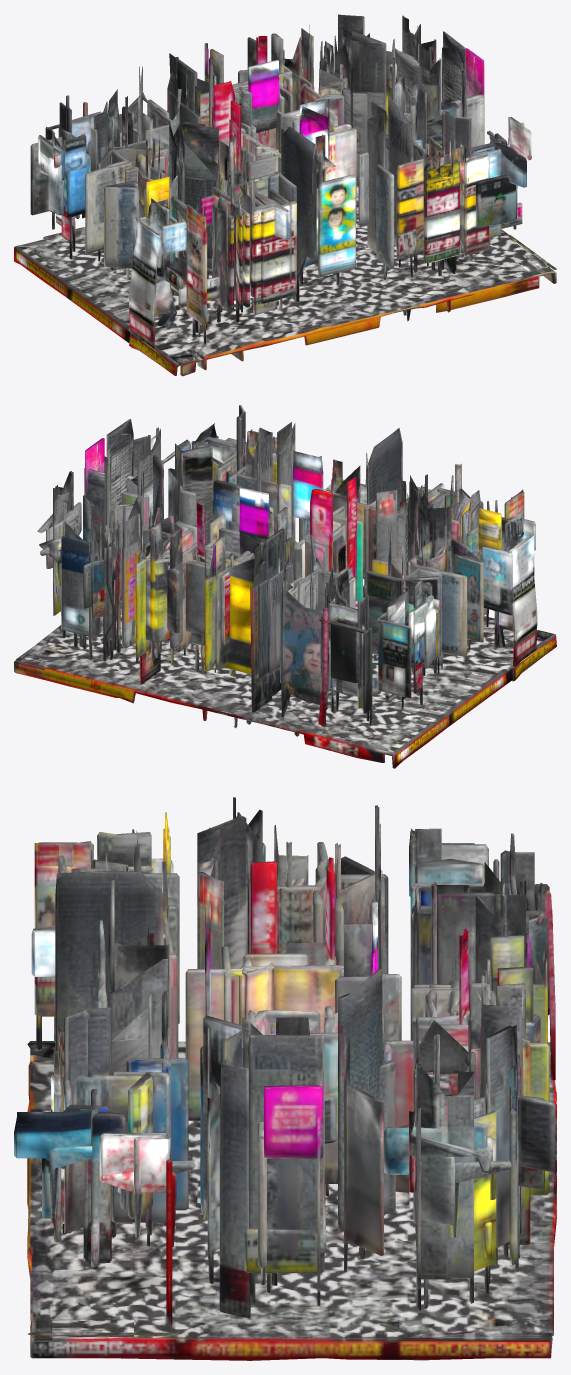
The model's file is electronics_district_1.glb.
3 views of the same model, one above another, from view 1: azimuth 30°, elevation 25°; view 2: azimuth 150°, elevation 25°; view 3: azimuth 270°, elevation 25° (orthographic). The views are drawn at different scales.
Bounding box in the file's own units: 1.91 × 0.9393 × 1.44.
Materials: 1 (1 with a texture image).
